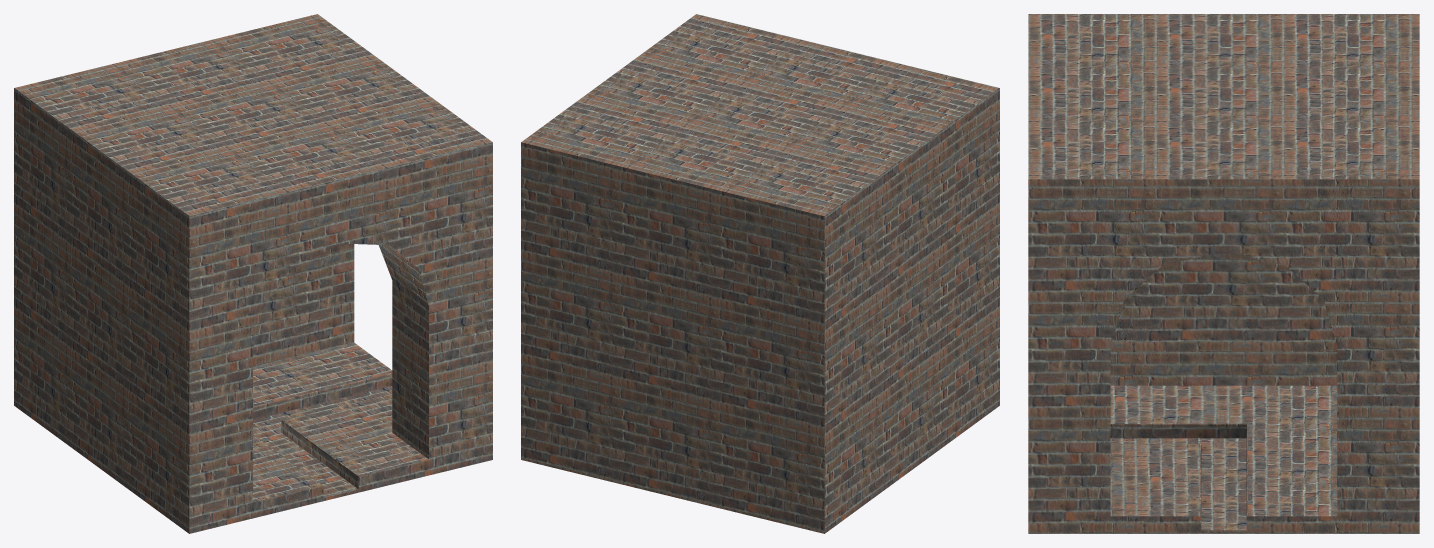
The model's file is Tunnel_Turn.fbx.
3 views of the same model, side by side, from view 1: azimuth 30°, elevation 25°; view 2: azimuth 150°, elevation 25°; view 3: azimuth 270°, elevation 25° (orthographic). The views are drawn at different scales.
Visible parts, largest first — view 1: Tunnel_Turn; view 2: Tunnel_Turn; view 3: Tunnel_Turn.
Boxes of the visible parts, x1,y1,x2,y2 form: Tunnel_Turn: [14, 14, 492, 533]; Tunnel_Turn: [521, 14, 999, 533]; Tunnel_Turn: [1028, 14, 1419, 533].
Bounding box in the file's own units: 5 × 5 × 5.
